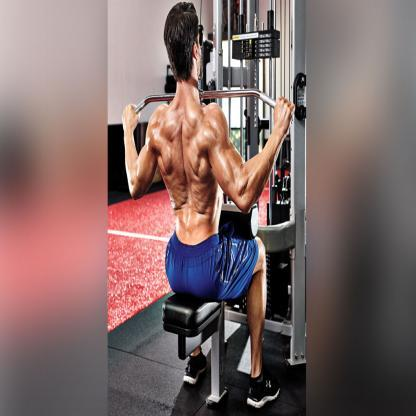Lat Pull Down: (119, 0, 319, 416)
